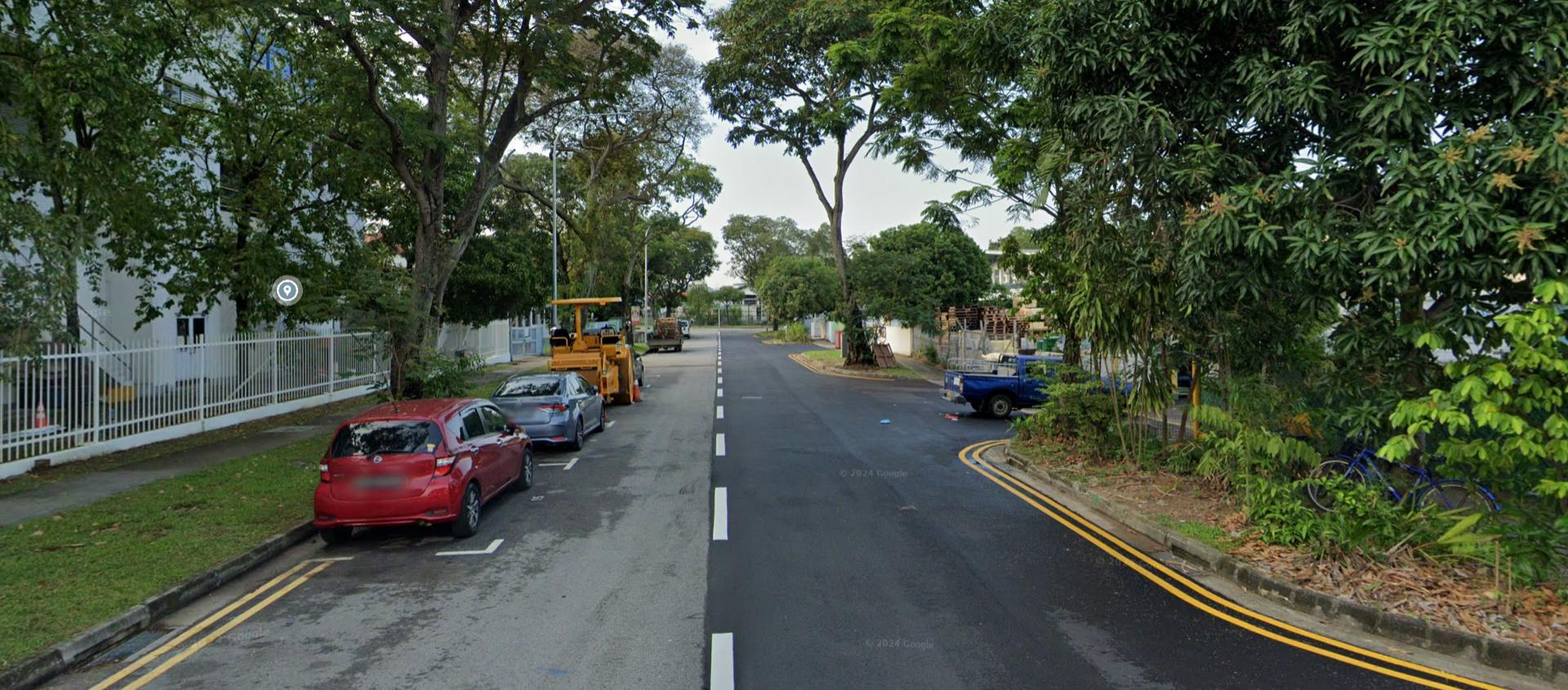normal: (82, 629, 171, 668)
